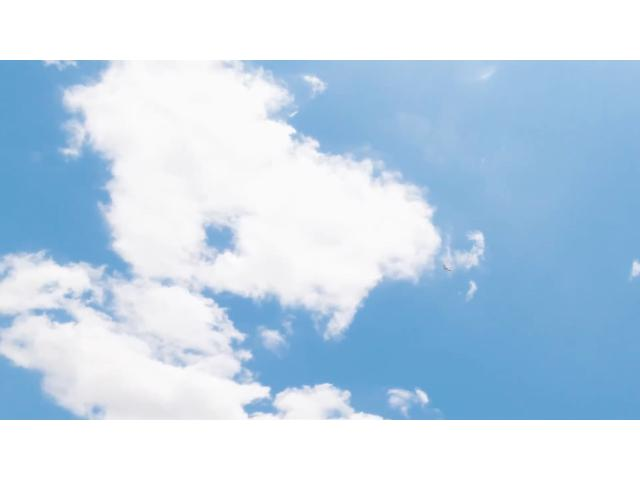Anti-Drone: (432, 255, 463, 279)
